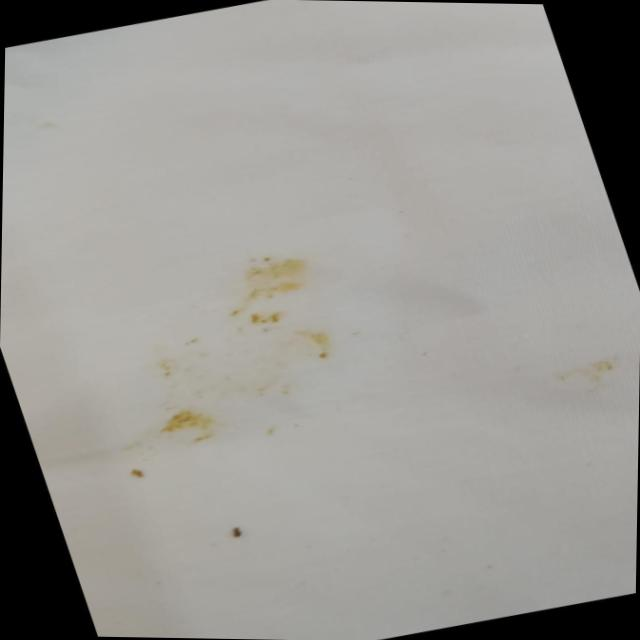stain: (42, 224, 401, 498), (540, 342, 640, 394), (216, 516, 262, 550)
